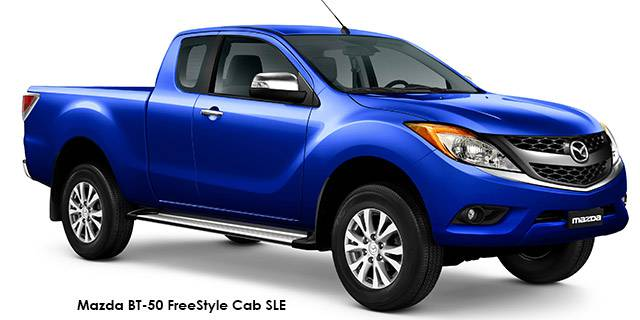pickup: (21, 22, 630, 295)
